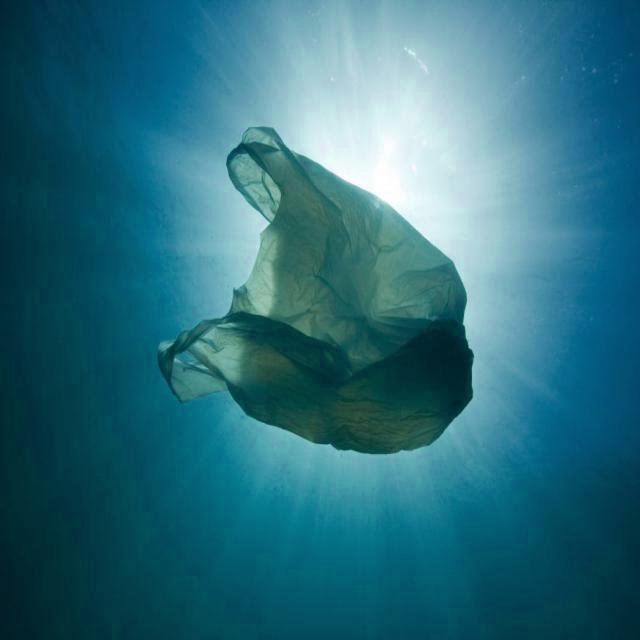Trash: (152, 121, 476, 463)
